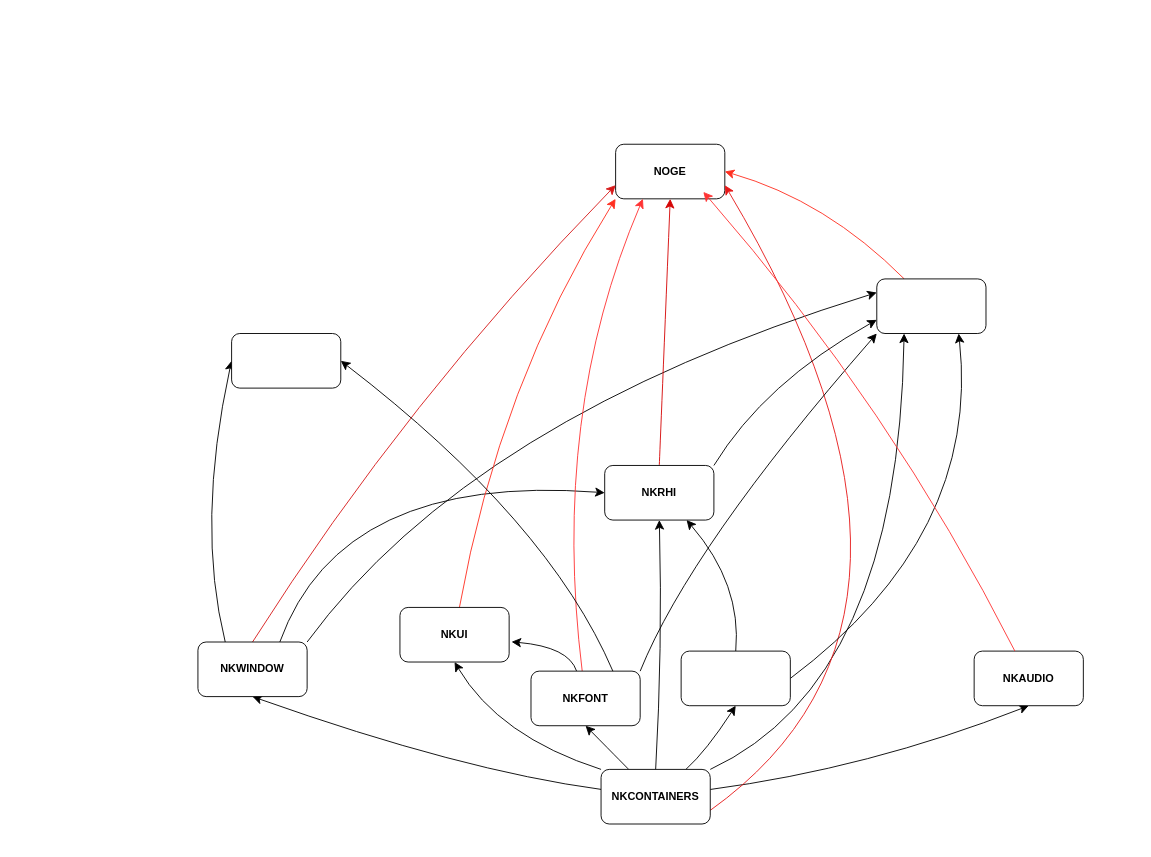
This 1151x857 diagram has some shape labels left out. The shapes that lost their labels are listed below. From the top down, each one's centre as x and y in pixels, then its label:
At (931,306): "NKRENDERER".
At (286,360): "NKCANVAS".
At (735,678): "NKSL".
